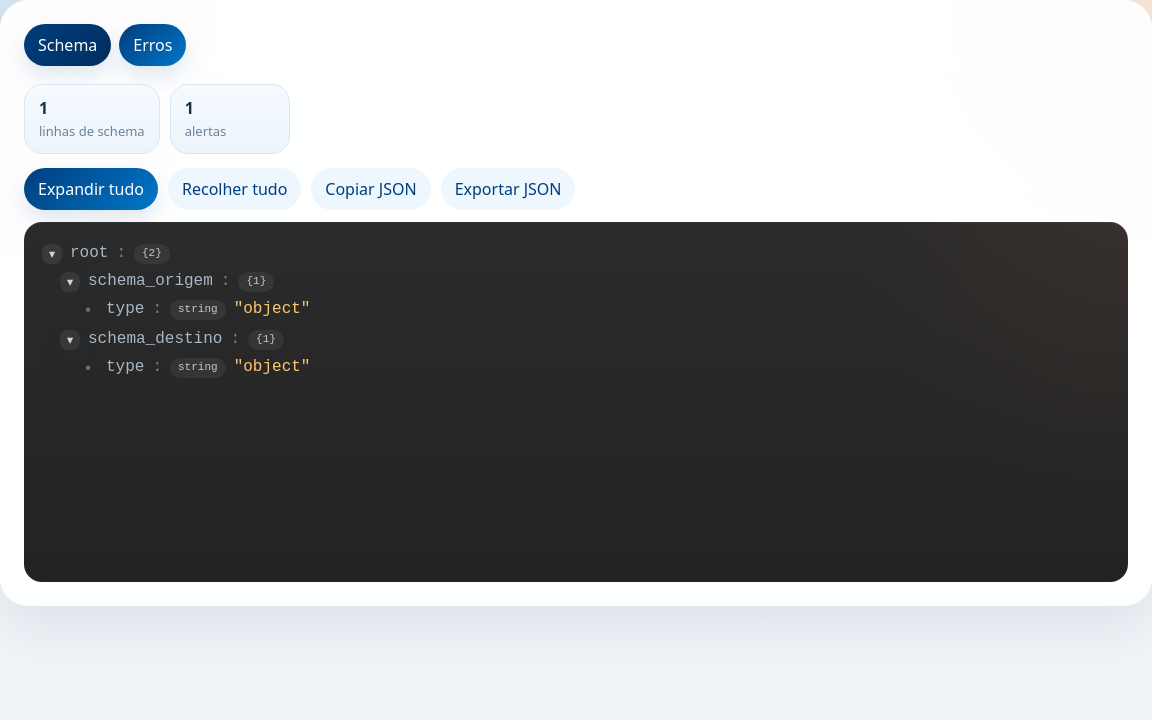
PreviewTabsComponent › collapses and expands object nodes in the json viewer
This screenshot has width=1152, height=720.
Click the button with class "json-toggle" next to "root".
click(52, 254)  # box [42,244,62,264]
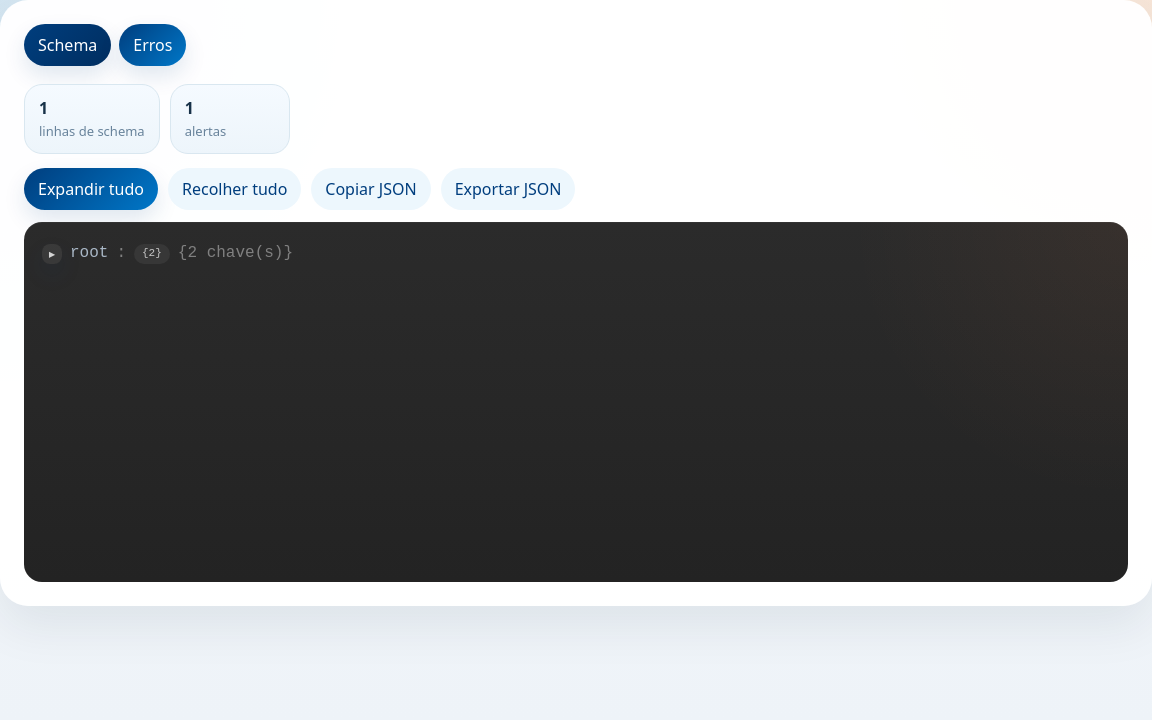
Expected: the text "{2 chave(s)}" is shown, [178,242,293,266]
Click the button with class "json-toggle".
click(52, 254)  # box [42,244,62,264]
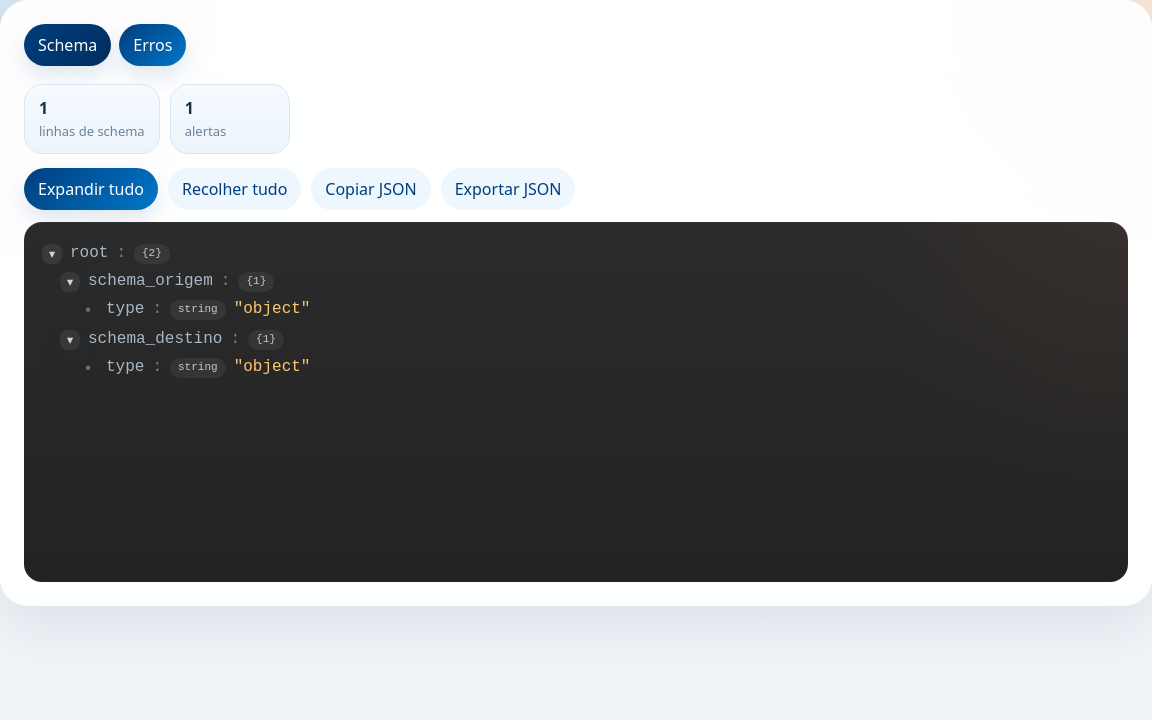
Expected: the text "type" is shown, [106,298,144,322]
